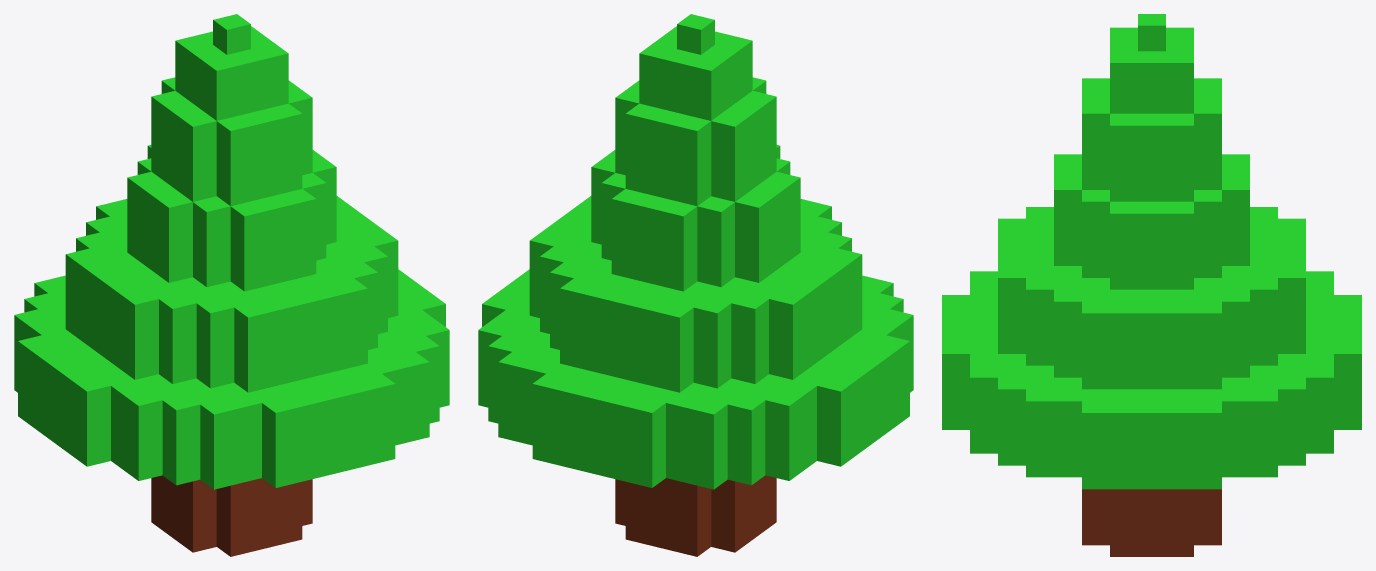
File: Fat_Tree.fbx
3 views of the same model, side by side, from view 1: azimuth 30°, elevation 25°; view 2: azimuth 150°, elevation 25°; view 3: azimuth 270°, elevation 25° (orthographic).
Parts seen in each view (by area): view 1: fat tree; view 2: fat tree; view 3: fat tree.
Boxes of the visible parts, x1,y1,x2,y2 form: fat tree: (14,14,449,556); fat tree: (478,14,913,556); fat tree: (942,14,1361,556).
Size of the model in its own units: 76.7 by 102 by 76.7.
